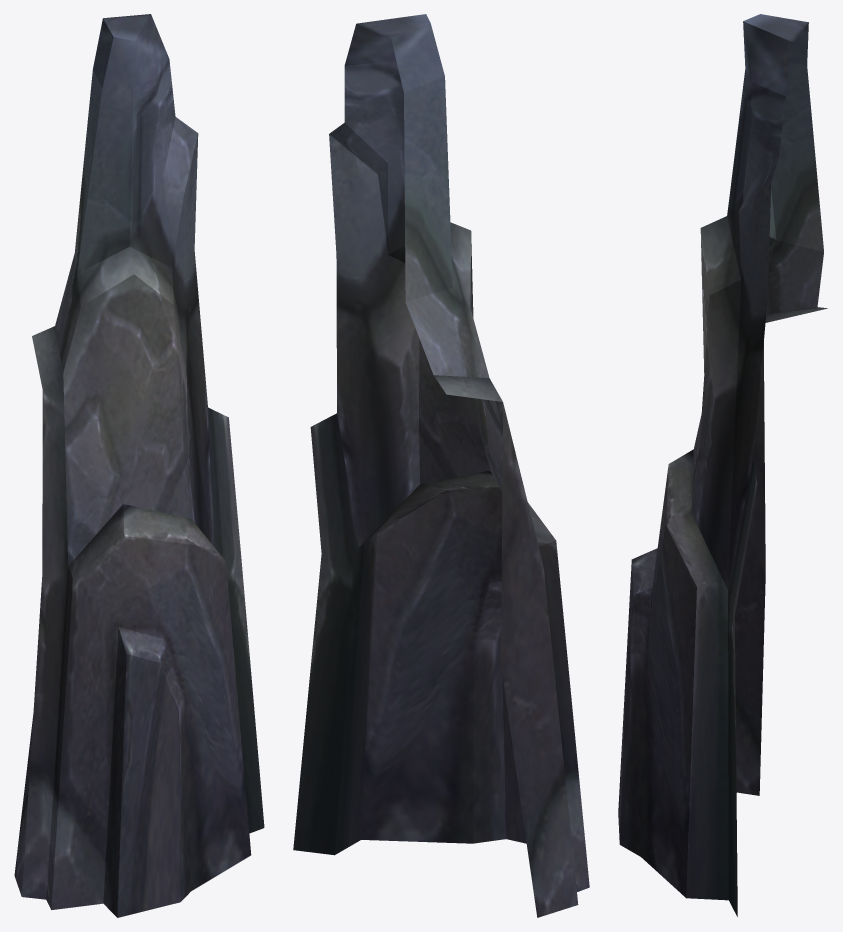
Rendered from dl_shan_001.fbx.
3 renders of one model, left to right at view 1: azimuth 30°, elevation 25°; view 2: azimuth 150°, elevation 25°; view 3: azimuth 270°, elevation 25°, orthographic. The views are drawn at different scales.
Visible parts, largest first — view 1: polySurface5819; view 2: polySurface5819; view 3: polySurface5819.
Part boxes in pixels (x1,y1,x2,y2): polySurface5819: (14, 14, 264, 917); polySurface5819: (293, 14, 589, 917); polySurface5819: (618, 14, 827, 916).
Bounding box in the file's own units: 256 × 784 × 179.
